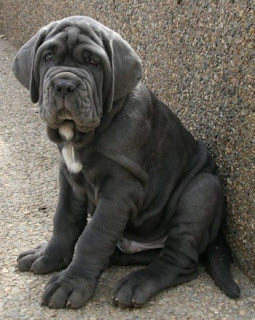neapolitan_mastiff: (11, 15, 241, 310)
